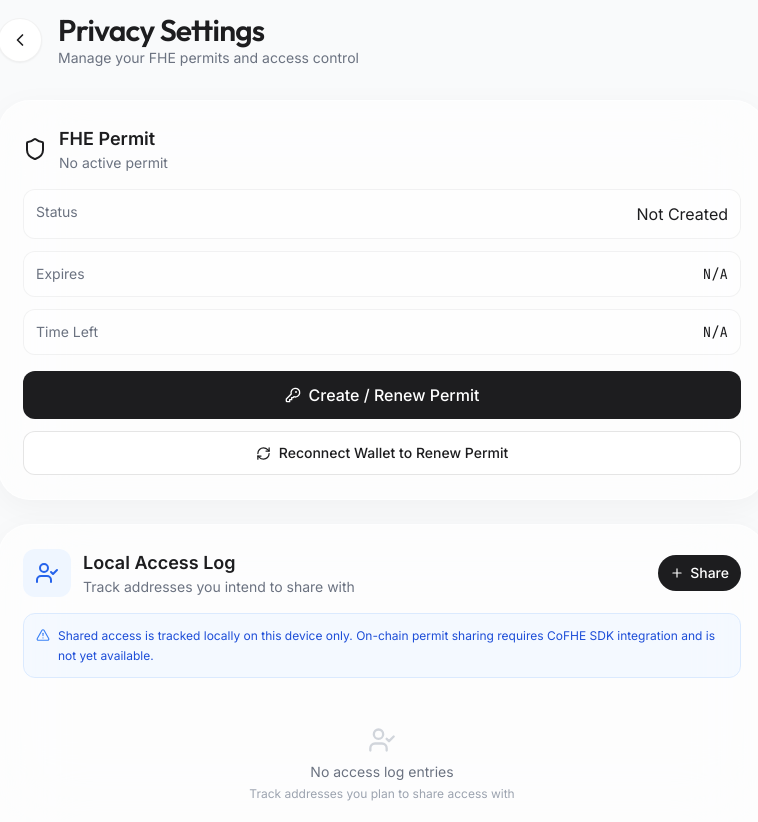
Privacy — Share form (§15.x) › clicking 'Share' button toggles the form open
Click the button with aria-label "Share access": (700, 573) [658,555,741,591]
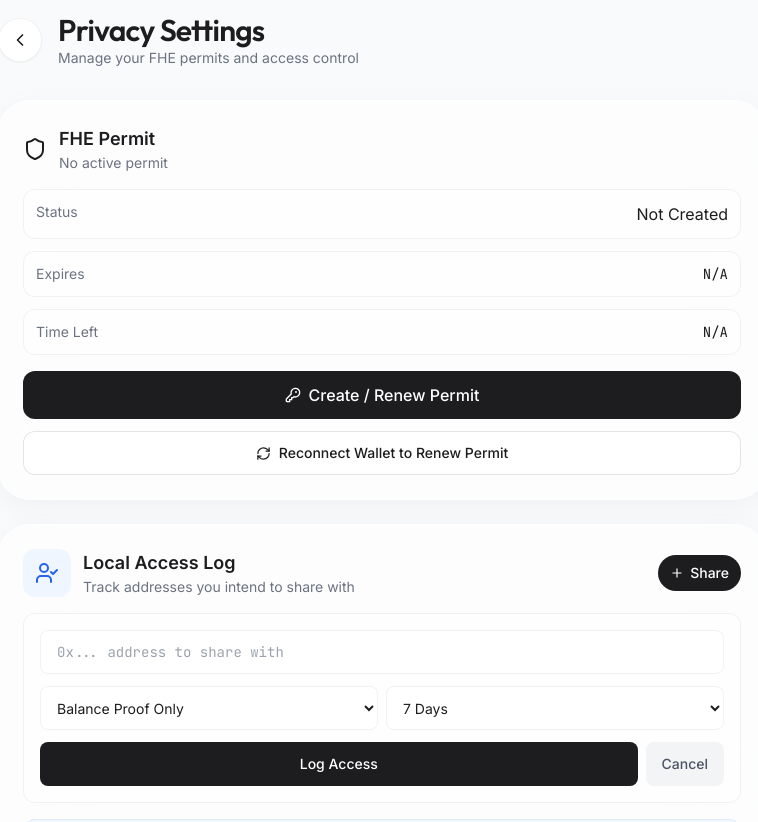
Result: the field with placeholder "0x... address to share with" is shown at [40,630,724,674]
